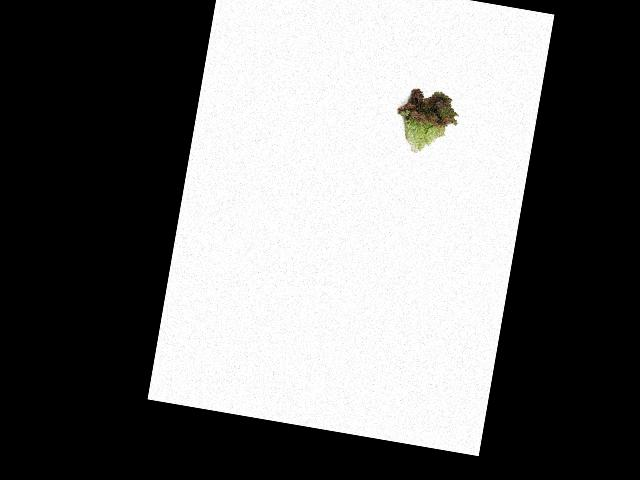lettuce: (385, 76, 466, 160)
